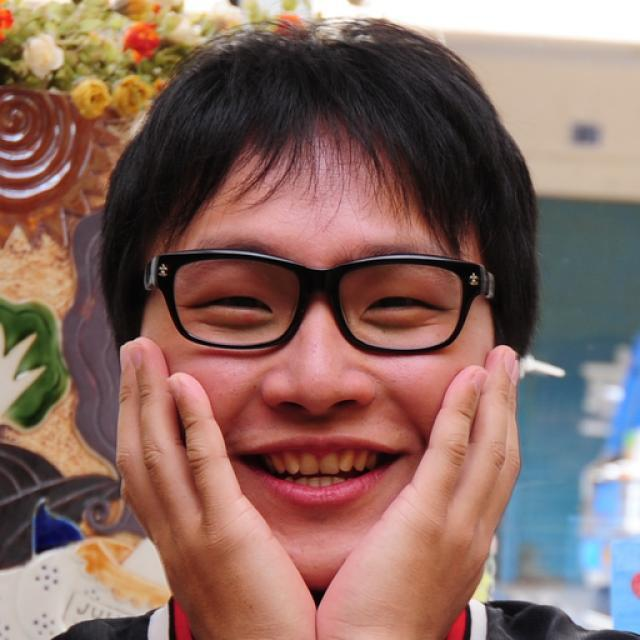happy: (132, 144, 502, 574)
